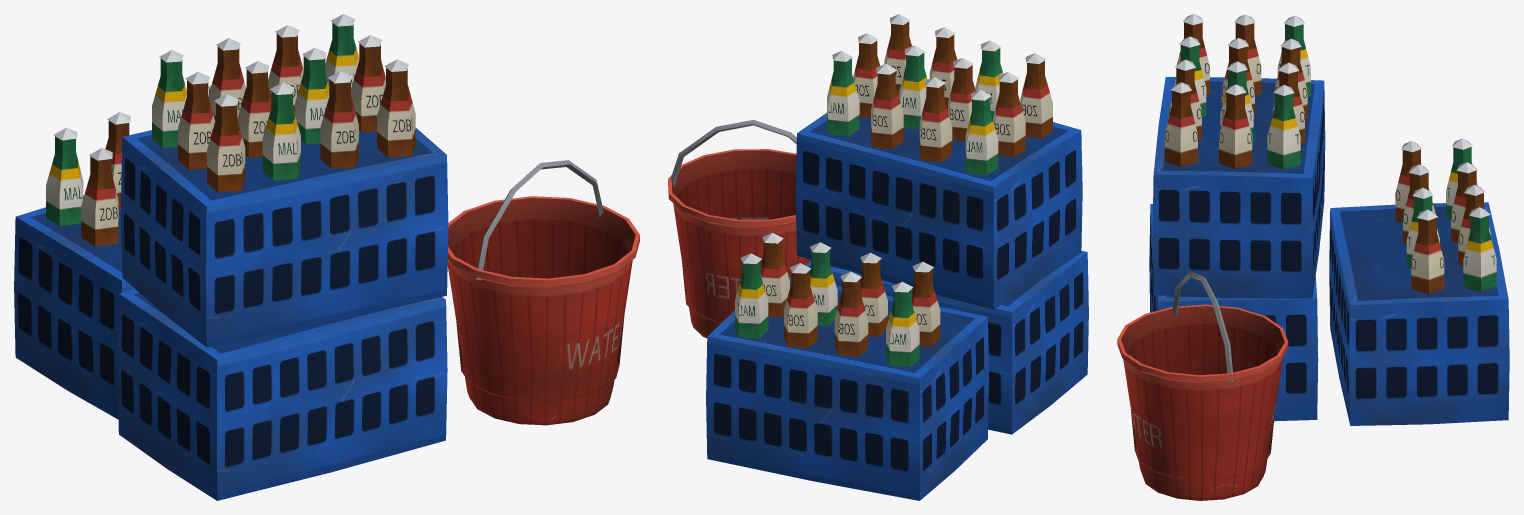
Rendered from prop_soft_kegs-DMaSCLK0.glb.
The picture shows the model from 3 angles, left to right: view 1: azimuth 30°, elevation 25°; view 2: azimuth 150°, elevation 25°; view 3: azimuth 270°, elevation 25°; orthographic projection. The views are drawn at different scales.
Visible parts, largest first — view 1: prop_soft_kegs_body; view 2: prop_soft_kegs_body; view 3: prop_soft_kegs_body.
Boxes of the visible parts, x1,y1,x2,y2 form: prop_soft_kegs_body: (14,14,639,500); prop_soft_kegs_body: (668,14,1088,500); prop_soft_kegs_body: (1117,14,1509,500).
Size of the model in its own units: 0.857 by 0.702 by 0.7608.
Materials: 1 (1 with a texture image).
